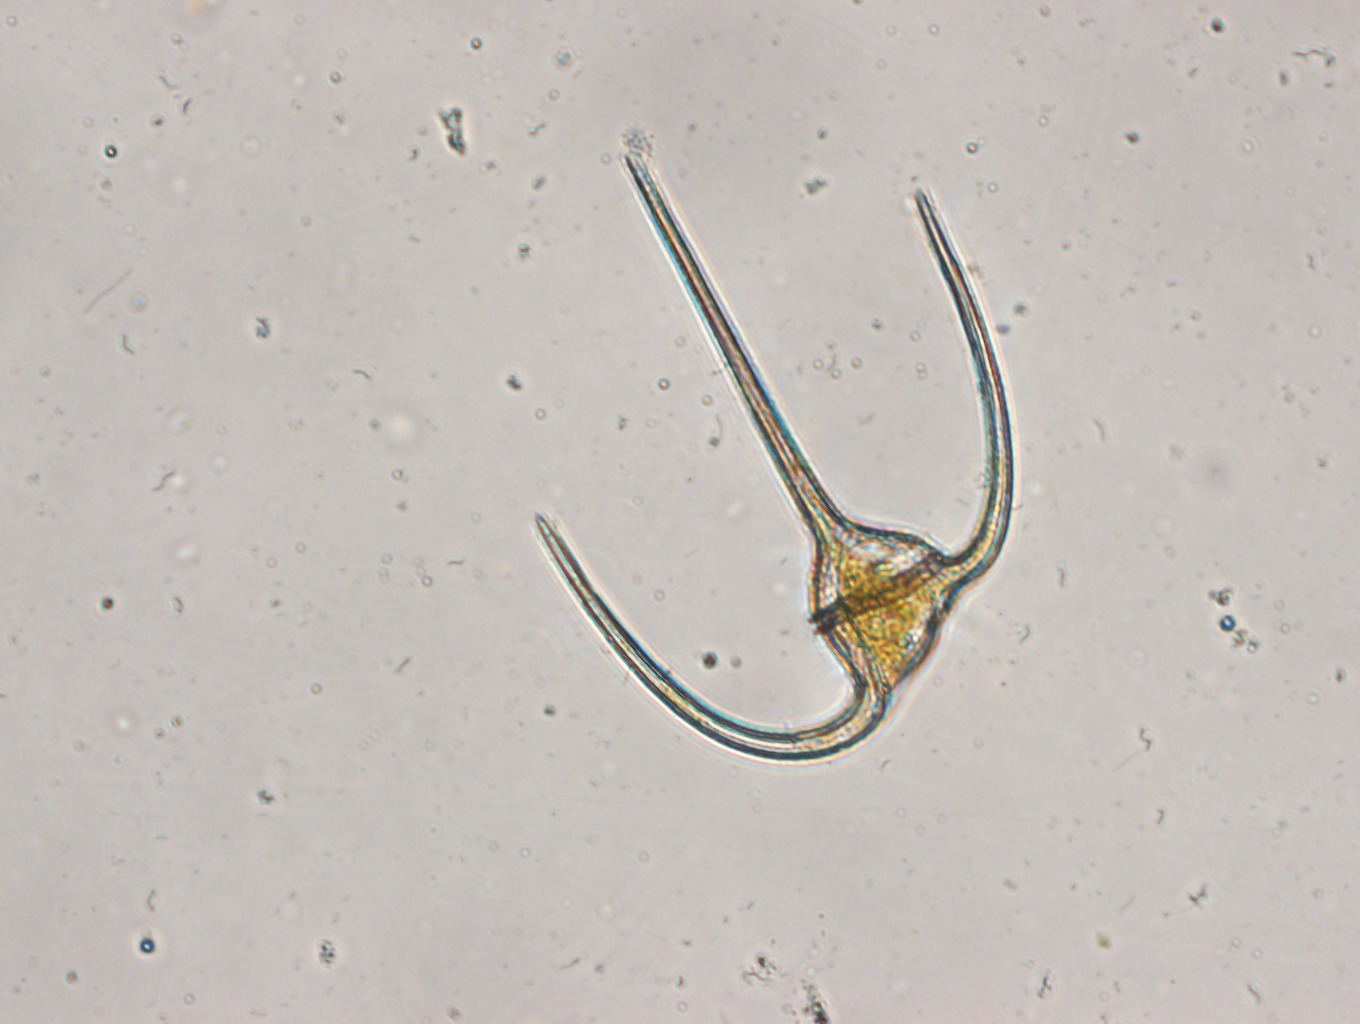ceratium trichoceros: (520, 141, 1018, 769)
